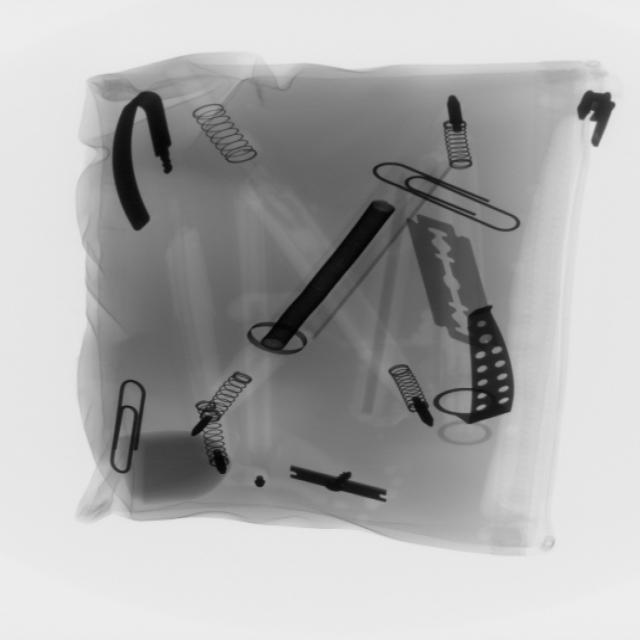BLADE: (403, 206, 494, 353)
